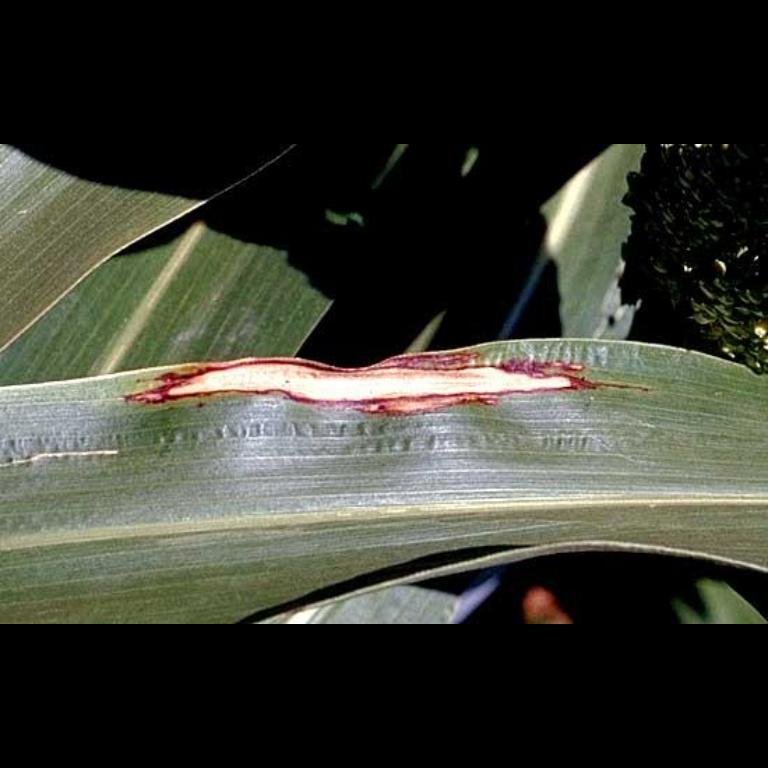blight: (150, 370, 546, 428)
